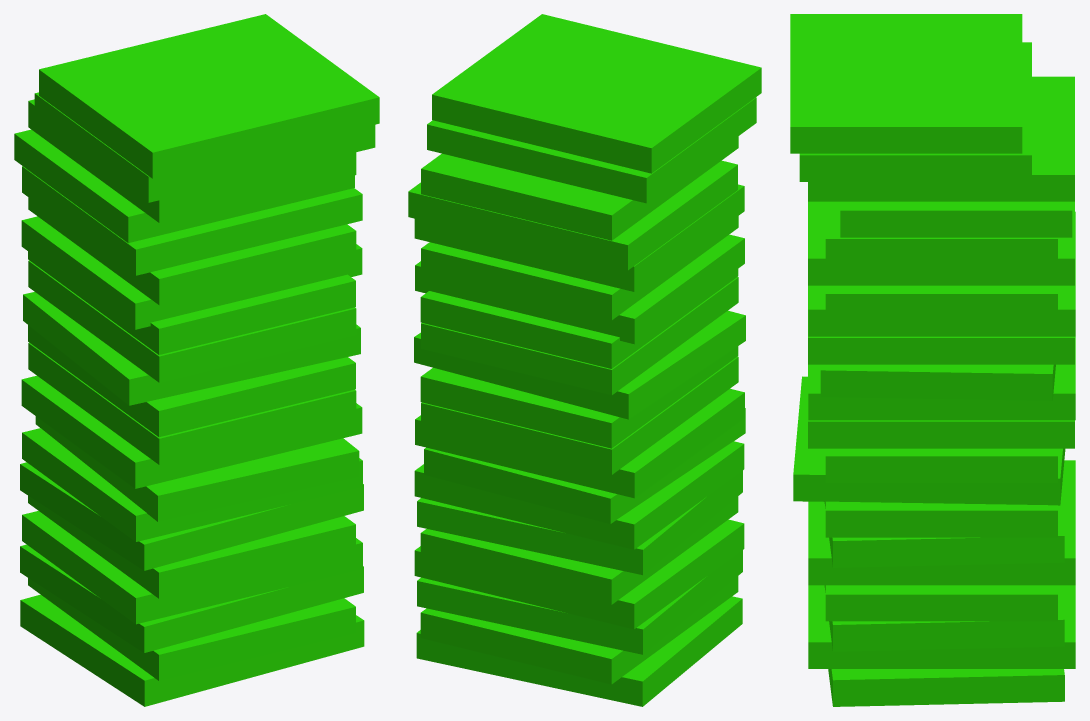
Rendered from Pallet_Pile_02_Lod1.fbx.
3 views of the same model, side by side, from view 1: azimuth 30°, elevation 25°; view 2: azimuth 150°, elevation 25°; view 3: azimuth 270°, elevation 25° (orthographic). The views are drawn at different scales.
Parts seen in each view (by area): view 1: Pallet_Pile_02_Lod1; view 2: Pallet_Pile_02_Lod1; view 3: Pallet_Pile_02_Lod1.
Boxes of the visible parts, <box> form: Pallet_Pile_02_Lod1: <box>14,14,379,706</box>; Pallet_Pile_02_Lod1: <box>408,14,761,706</box>; Pallet_Pile_02_Lod1: <box>790,14,1075,706</box>.
Size of the model in its own units: 146 by 333 by 149.
